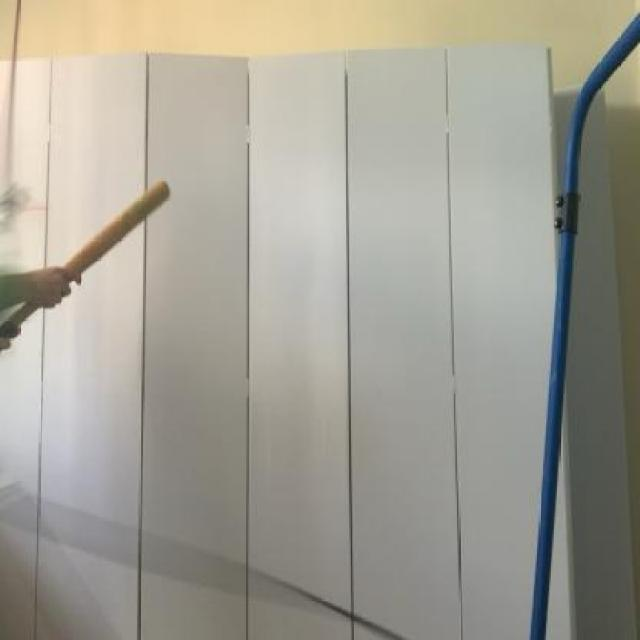baseball: (0, 254, 37, 352)
